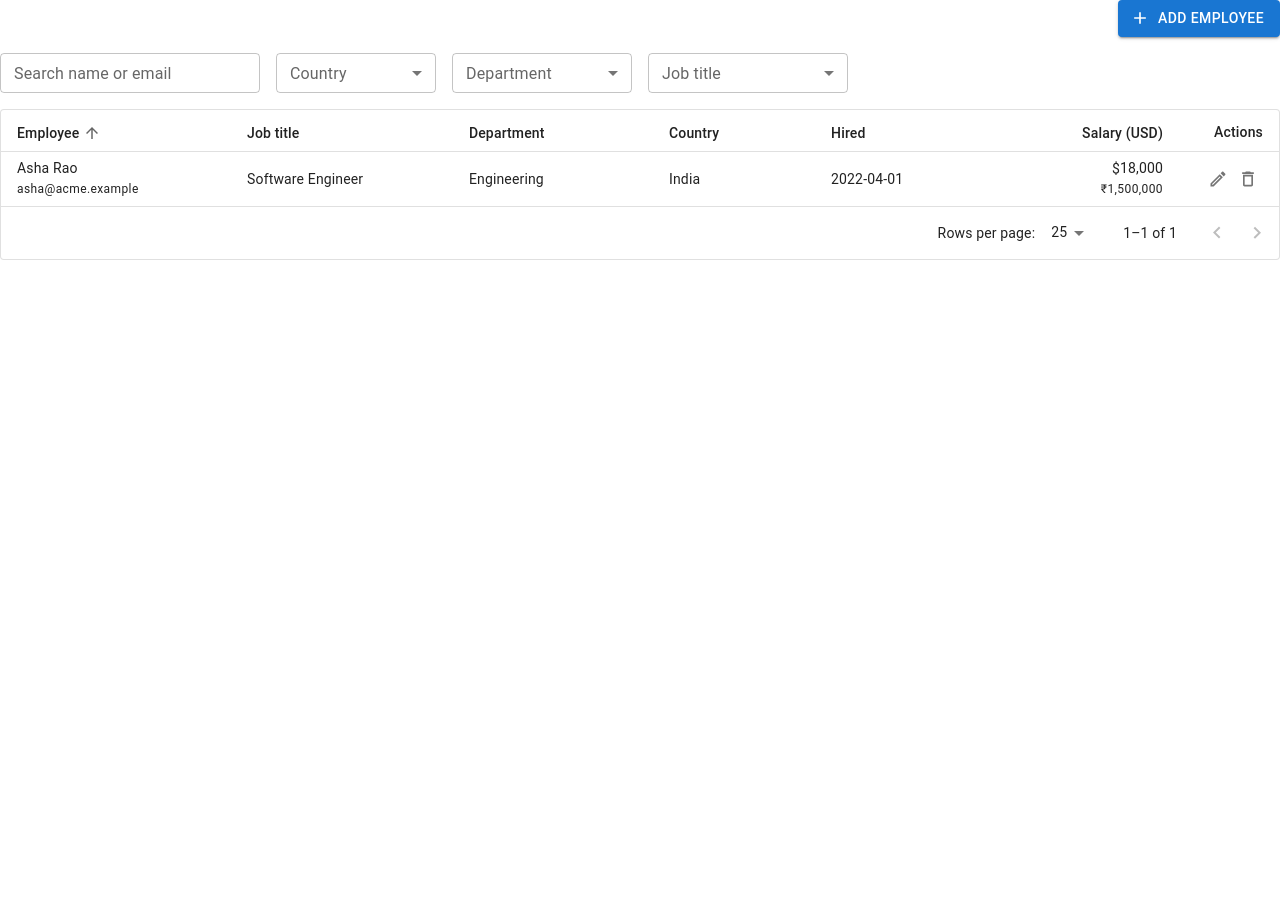
employee create / edit / delete › asks for confirmation, deletes, refreshes the table and confirms with a toast
Click the button named "Delete Asha Rao": (1248, 179) [1233,164,1263,194]
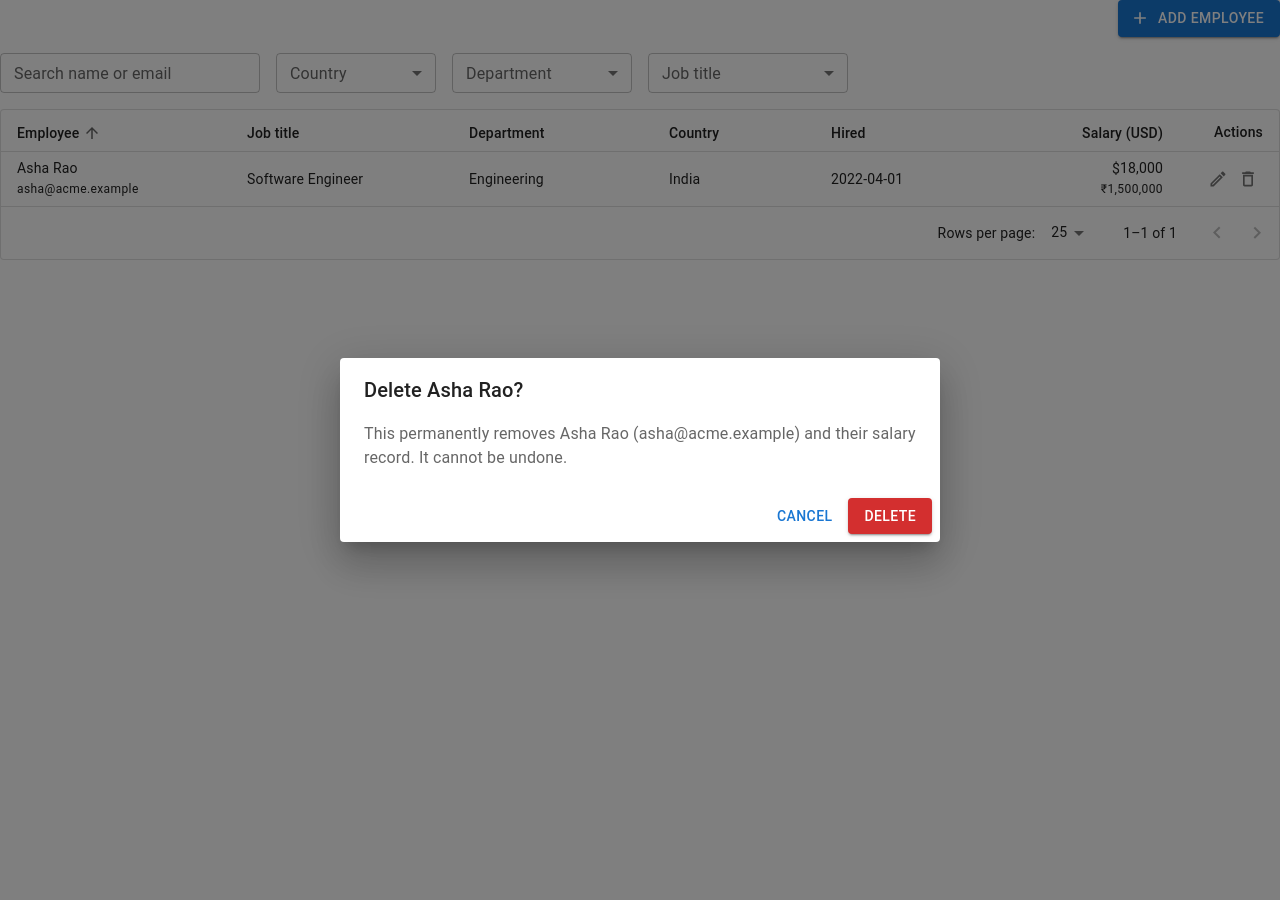
Check: the text "cannot be undone" is shown, box [364,424,916,467]
Click the button "Delete": (890, 516) [848,498,932,534]
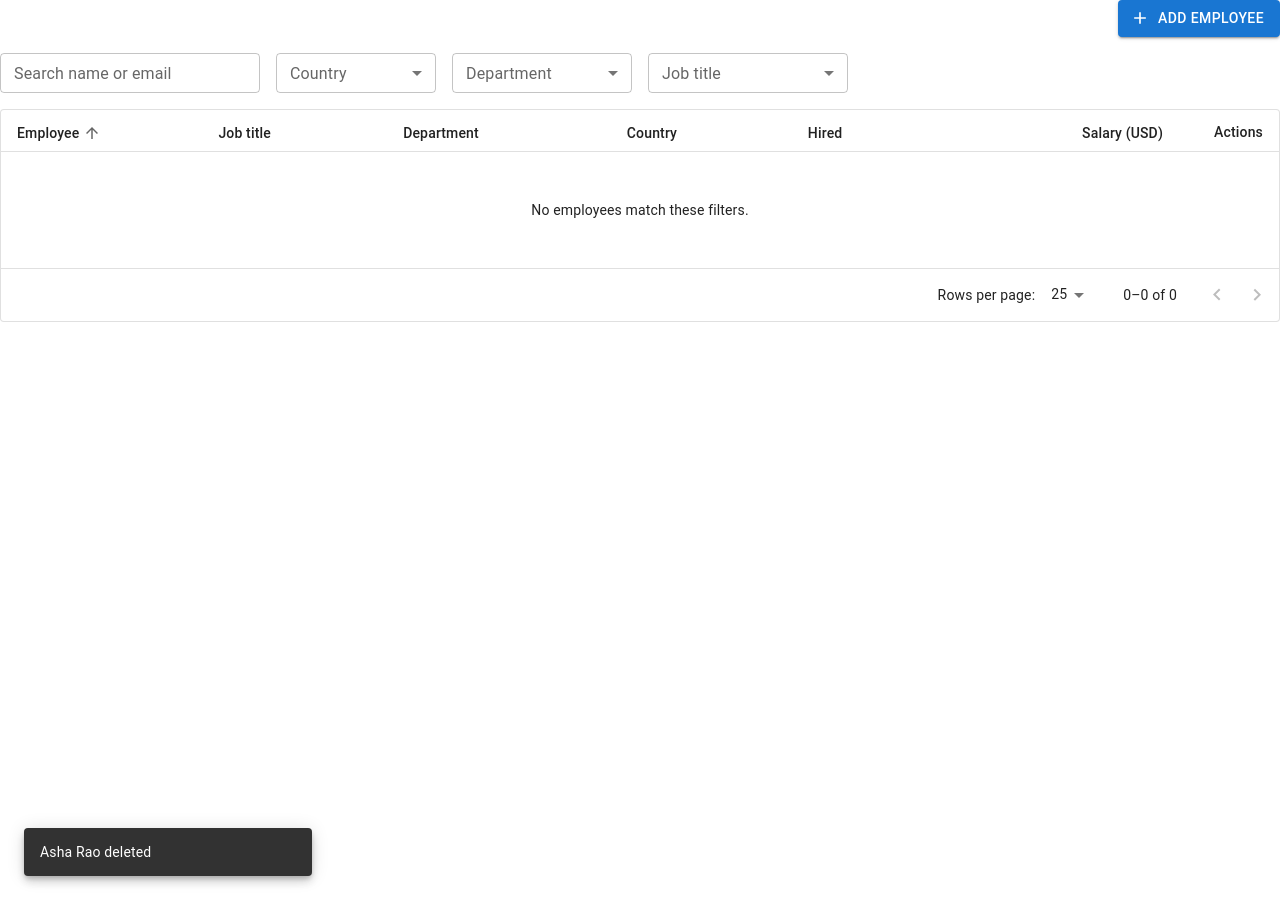
Check: the text "Asha Rao deleted" is shown, box [40,844,151,860]
Check: the text "asha@acme.example" is gone
